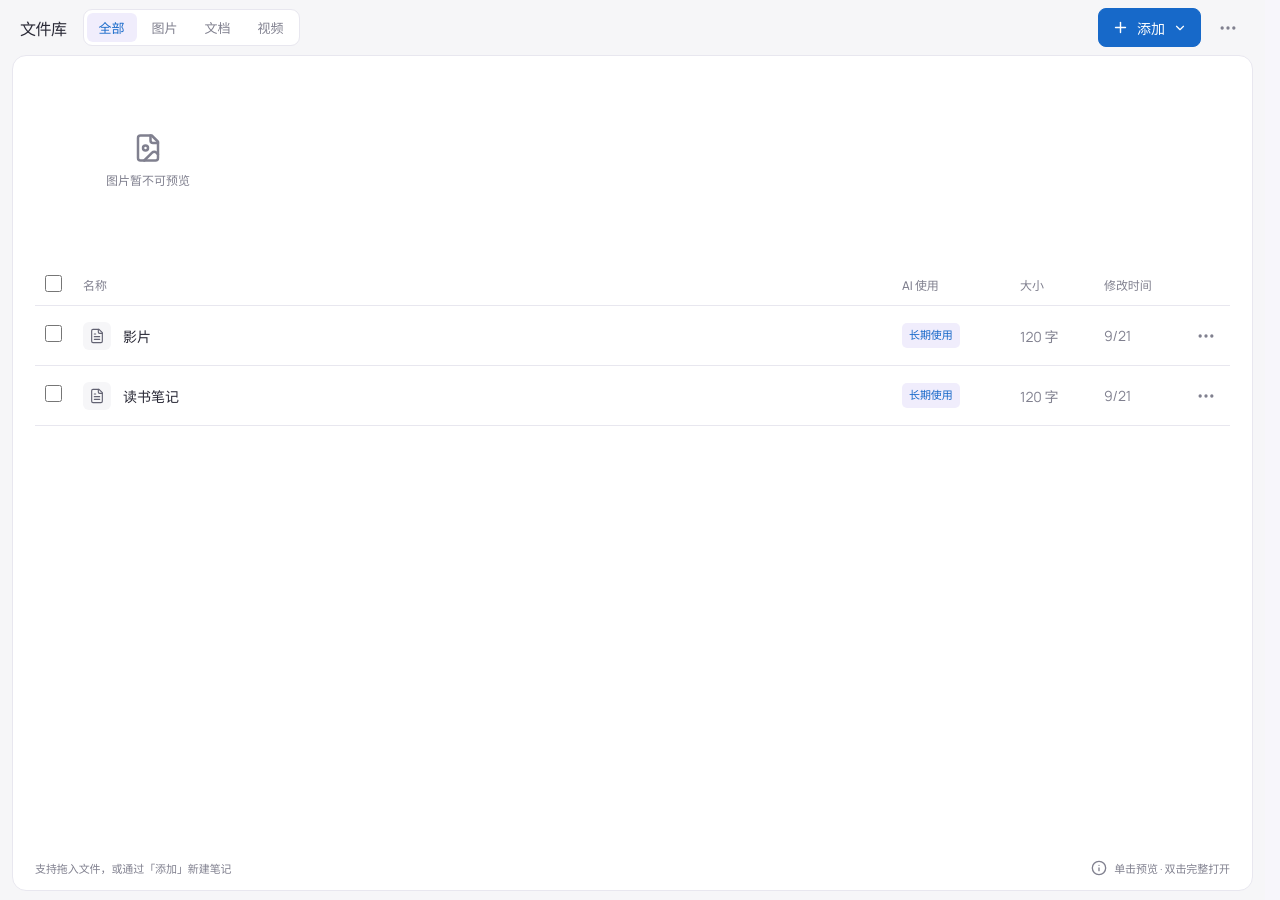
Test case: file library › filters files by type
This screenshot has width=1280, height=900.
Click the button named "文件库更多选项" at (1228, 28), box [1211,10,1245,44]
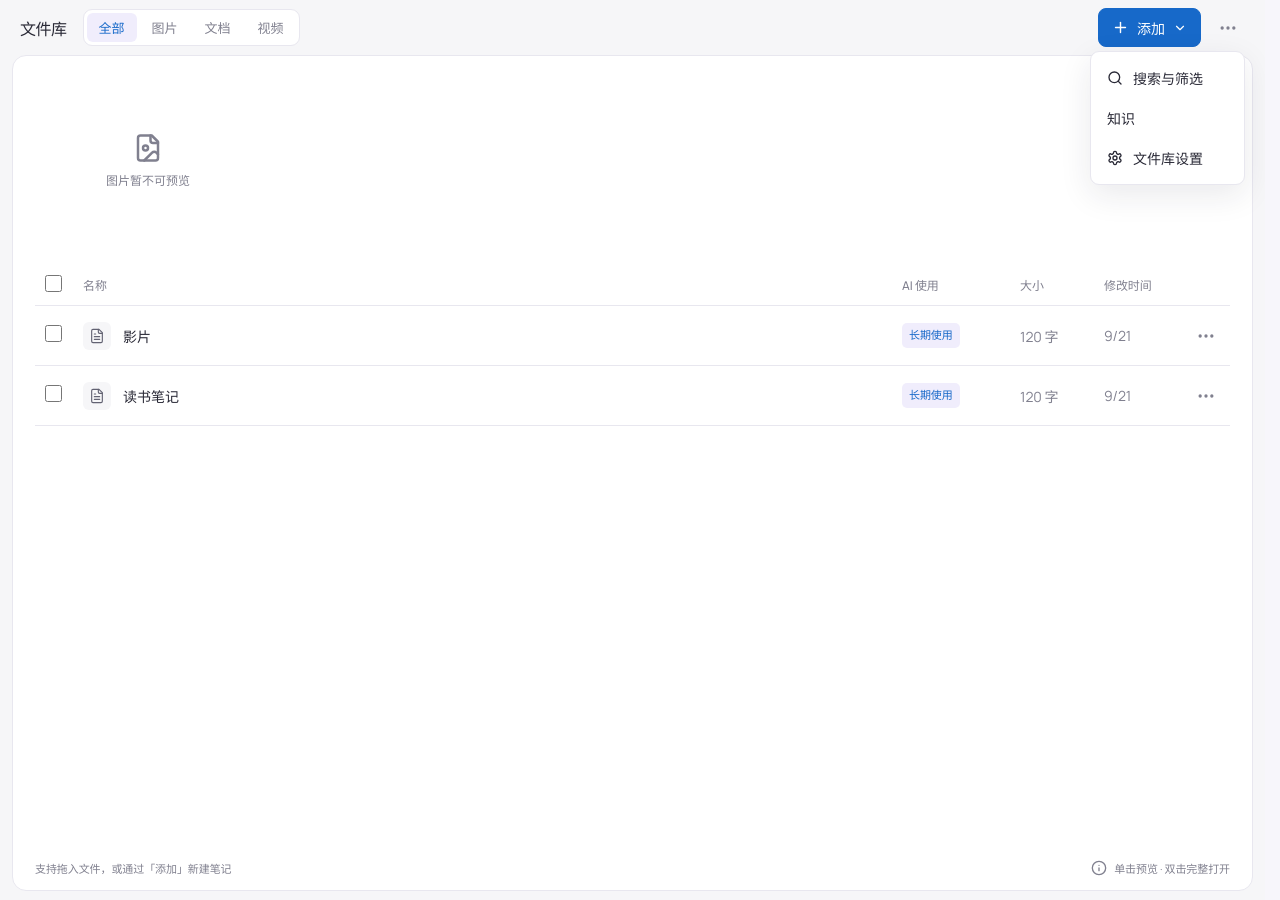
Click the button "搜索与筛选" at (1168, 78), box [1097,58,1238,98]
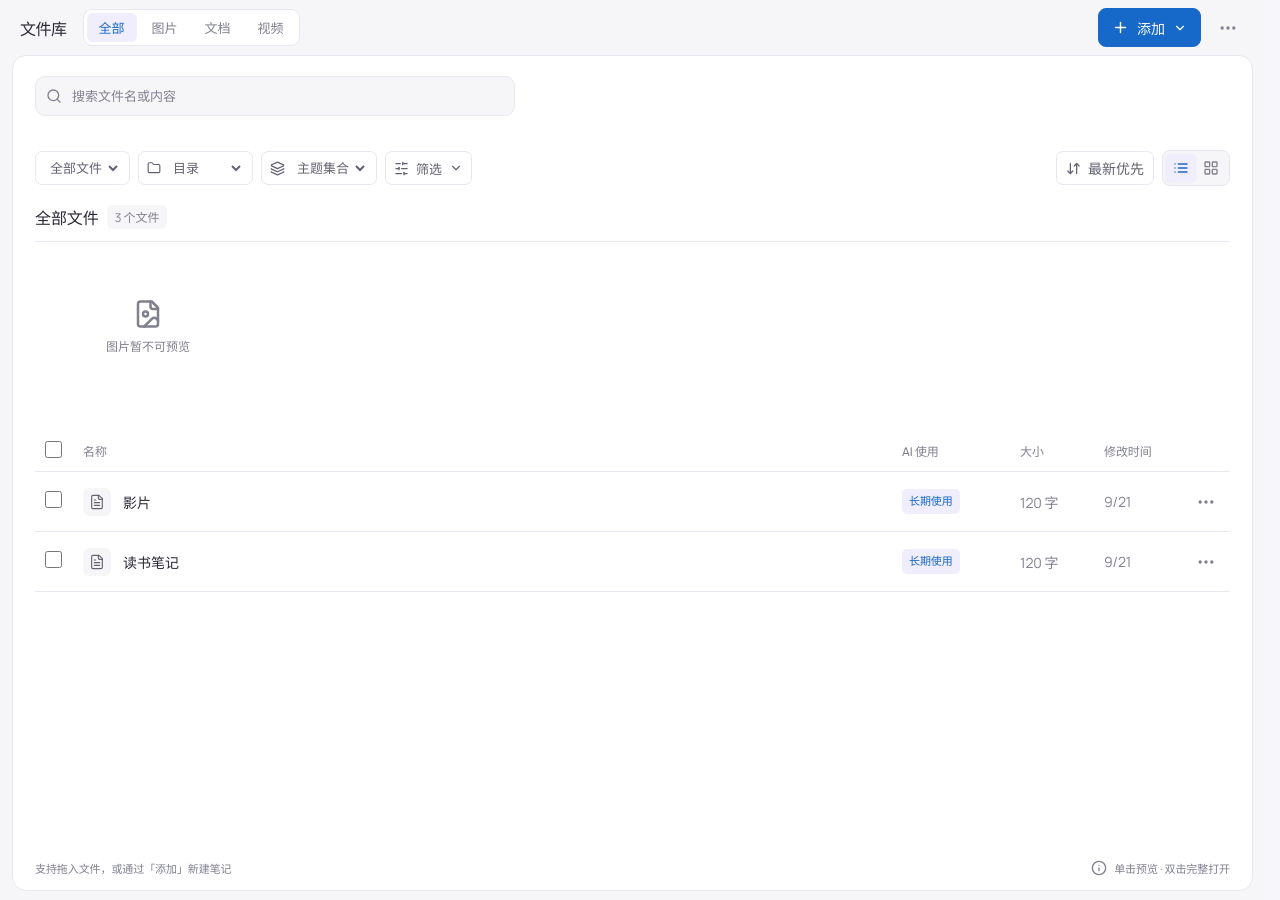
Click the button "图片" at (165, 28), box [140,13,190,42]
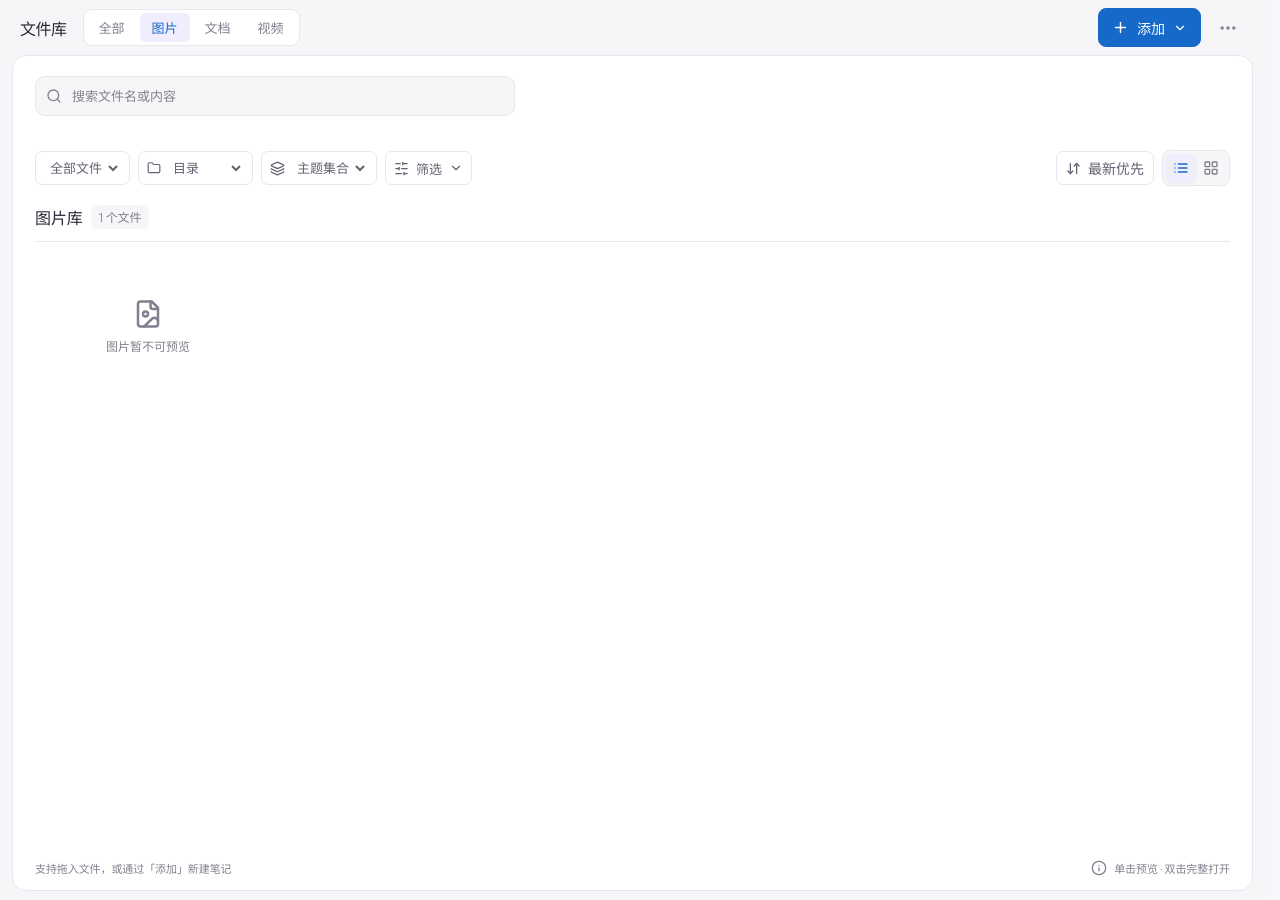
Expected: the button with aria-label "预览 照片" is shown, [35,242,261,412]
Expected: the button "影片" is gone
Click the button "视频" at (271, 28), box [246,13,296,42]
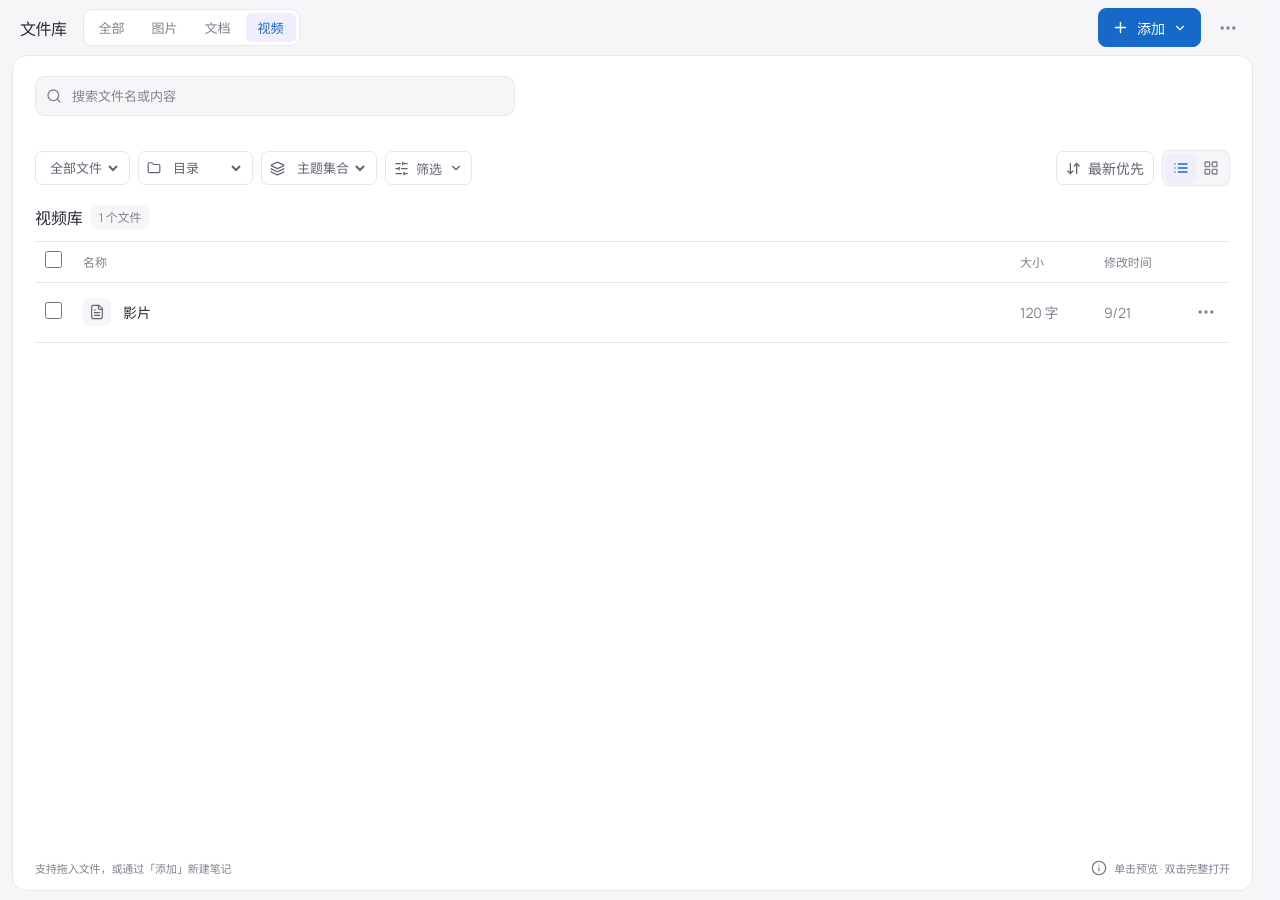
Expected: the button "影片" is shown, [123,302,151,322]
Click the button "文档" at (218, 28), box [193,13,243,42]
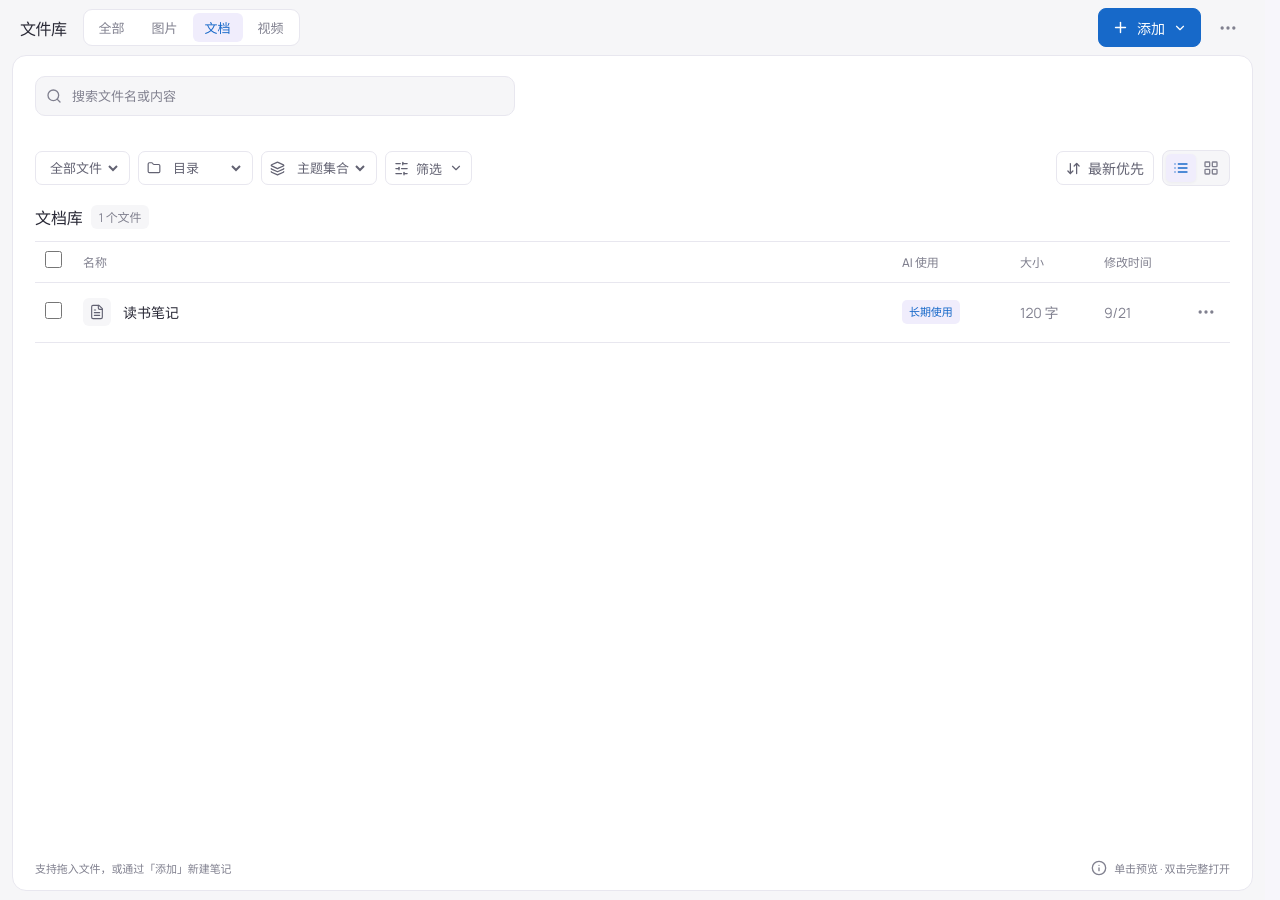
Expected: the button "读书笔记" is shown, [123,302,179,322]
Expected: the button "影片" is gone
